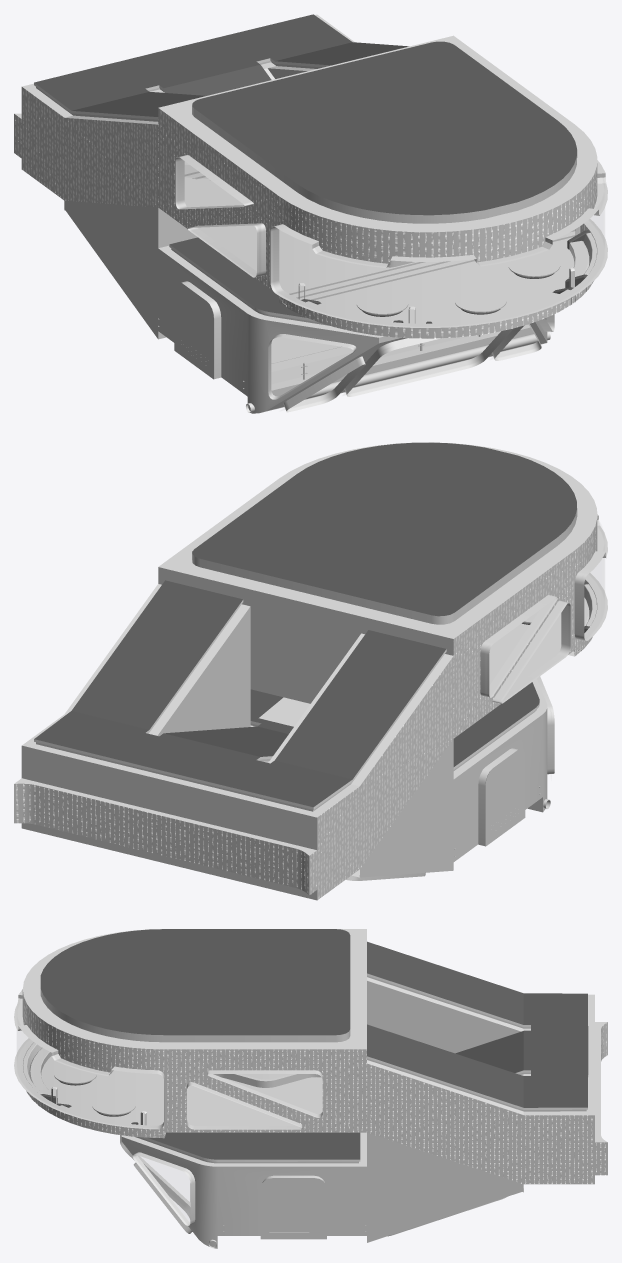
3 renders of one model, top to bottom at view 1: azimuth 30°, elevation 25°; view 2: azimuth 150°, elevation 25°; view 3: azimuth 270°, elevation 25°, orthographic. The views are drawn at different scales.
Visible parts, largest first — view 1: Base, Couches, Table.002, Table.001, Table, Stairs; view 2: Base; view 3: Base, Couches, Design_Part, Window_01, Table, Table.001.
Part boxes in pixels (bbox=[...]): Base: bbox=[14, 14, 607, 413]; Couches: bbox=[301, 230, 596, 323]; Table.002: bbox=[356, 292, 408, 316]; Table.001: bbox=[455, 290, 506, 314]; Table: bbox=[508, 254, 560, 278]; Stairs: bbox=[64, 169, 224, 210]; Base: bbox=[14, 442, 607, 900]; Base: bbox=[14, 929, 607, 1248]; Couches: bbox=[23, 1042, 138, 1124]; Design_Part: bbox=[213, 1074, 321, 1087]; Window_01: bbox=[141, 1157, 189, 1221]; Table: bbox=[92, 1096, 135, 1116]; Table.001: bbox=[54, 1065, 96, 1085].
Size of what is drawn, in the model's own units: 21.24 by 16 by 41.7.
Materials: 7 (2 with a texture image).
